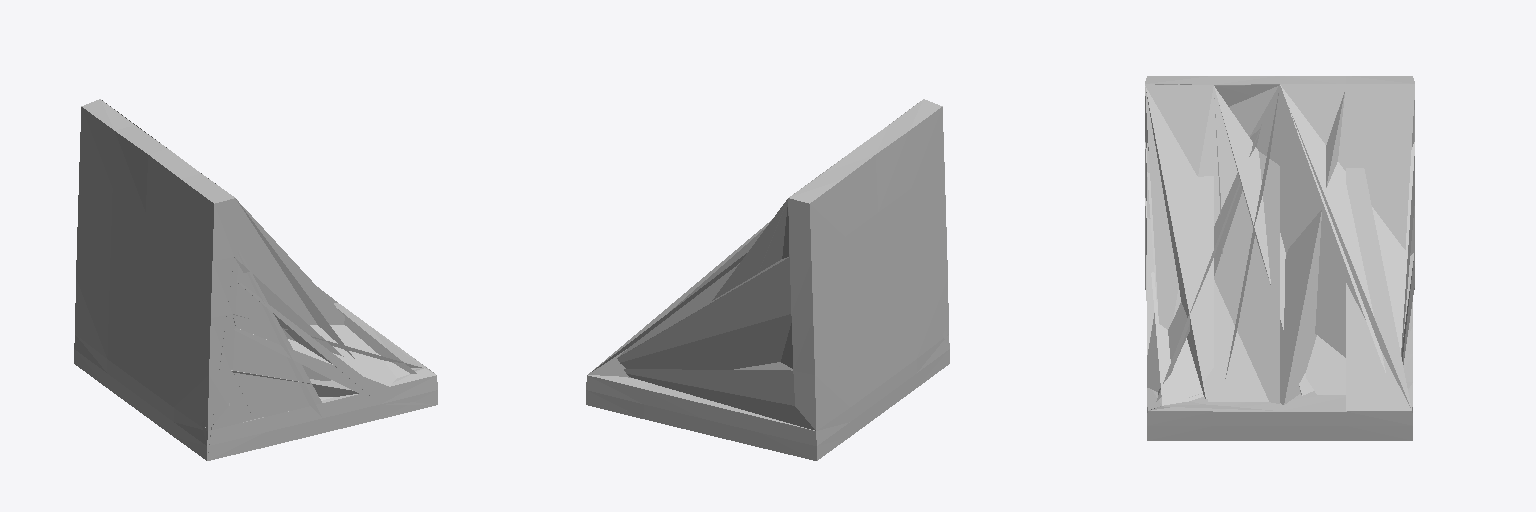
The model's file is pizza_box_v01.obj.
3 renders of one model, left to right at view 1: azimuth 30°, elevation 25°; view 2: azimuth 150°, elevation 25°; view 3: azimuth 270°, elevation 25°, orthographic.
Parts seen in each view (by area): view 1: pizza_box, pizza_1_2; view 2: pizza_box, pizza_1_2; view 3: pizza_1_2, pizza_box.
Part boxes in pixels (bbox=[...]): pizza_box: bbox=[74, 99, 437, 460]; pizza_1_2: bbox=[76, 100, 434, 452]; pizza_box: bbox=[586, 99, 949, 460]; pizza_1_2: bbox=[588, 103, 948, 430]; pizza_1_2: bbox=[1145, 84, 1414, 411]; pizza_box: bbox=[1145, 76, 1414, 440].
Size of the model in its own units: 26.93 by 28.73 by 27.34.